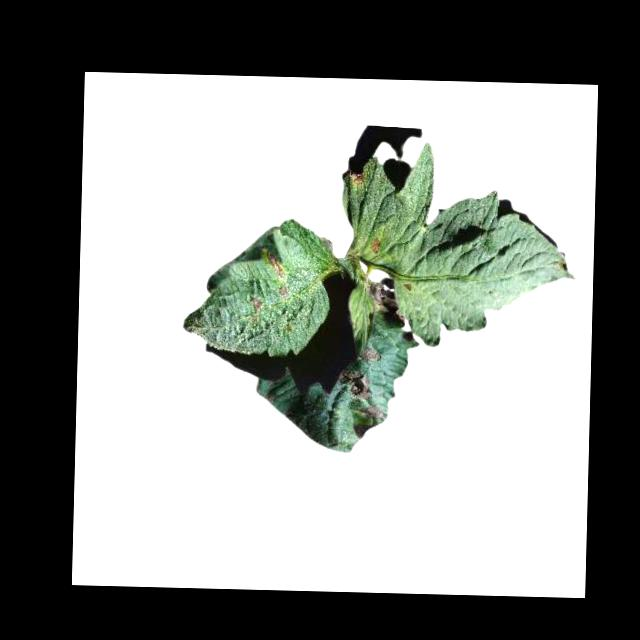Early_blight: (367, 279, 398, 318), (338, 370, 373, 400), (262, 252, 284, 279), (359, 346, 382, 366), (360, 403, 382, 422), (350, 170, 364, 186), (369, 239, 382, 255), (250, 299, 263, 313), (277, 285, 289, 298)
